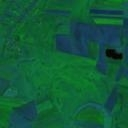alloviz: (104, 47, 124, 61)
